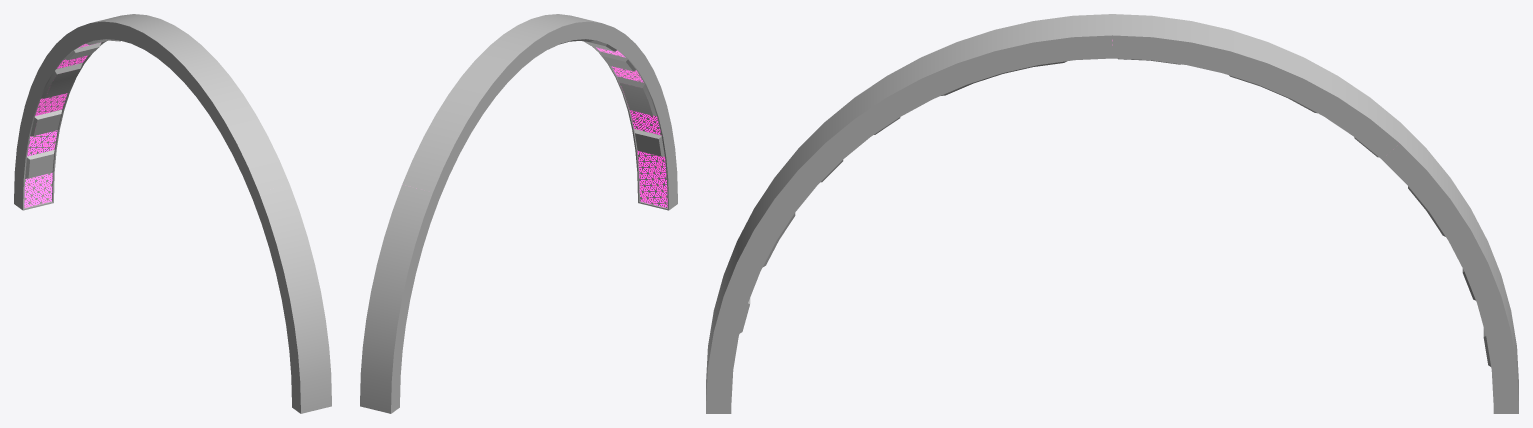
File: SM_TunnelD1.fbx
3 views of the same model, side by side, from view 1: azimuth 30°, elevation 25°; view 2: azimuth 150°, elevation 25°; view 3: azimuth 270°, elevation 25° (orthographic). The views are drawn at different scales.
Parts seen in each view (by area): view 1: SM_TunnelD1_LOD0; view 2: SM_TunnelD1_LOD0; view 3: SM_TunnelD1_LOD0.
Boxes of the visible parts, x1,y1,x2,y2 form: SM_TunnelD1_LOD0: (14,14,331,413); SM_TunnelD1_LOD0: (360,14,677,413); SM_TunnelD1_LOD0: (706,14,1518,413).
Bounding box in the file's own units: 100 × 1600 × 822.
